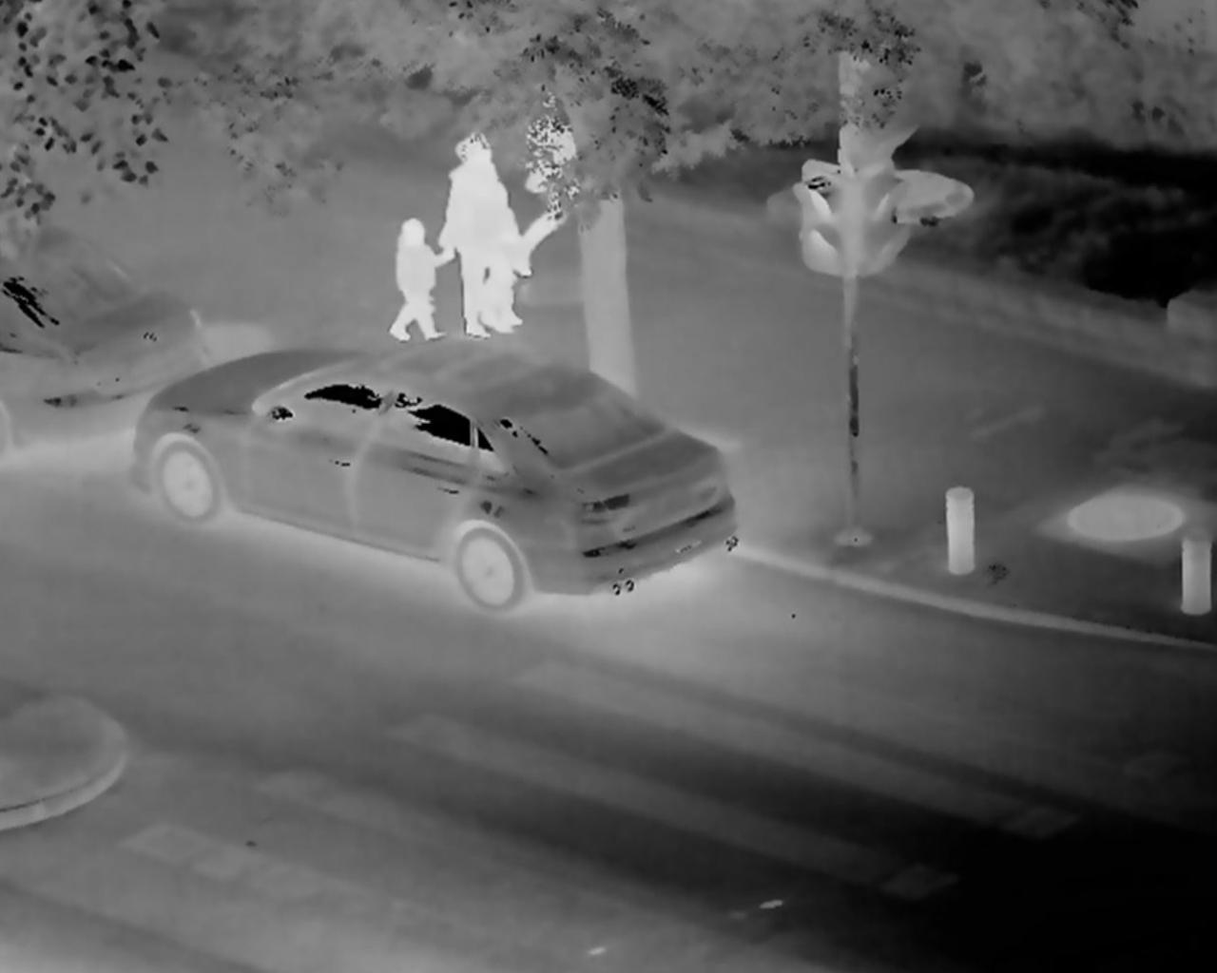person: (443, 147, 511, 331), (520, 87, 582, 286), (388, 213, 438, 338)
